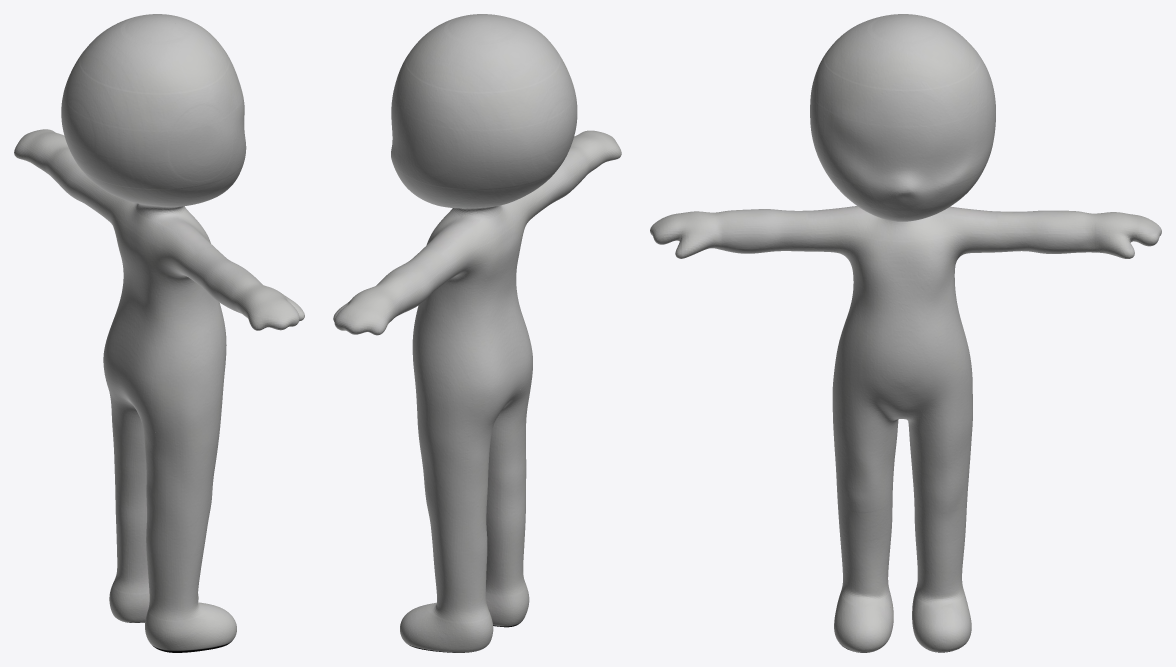
File: tripo_convert_b1c6afa2-38ba-4bbf-b787-9394bf0d1e6c.obj
3 renders of one model, left to right at view 1: azimuth 30°, elevation 25°; view 2: azimuth 150°, elevation 25°; view 3: azimuth 270°, elevation 25°, orthographic.
Parts seen in each view (by area): view 1: tripo_node_b1c6afa2-38ba-4bbf-b787-9394bf0d1e6c; view 2: tripo_node_b1c6afa2-38ba-4bbf-b787-9394bf0d1e6c; view 3: tripo_node_b1c6afa2-38ba-4bbf-b787-9394bf0d1e6c.
Boxes of the visible parts, x1,y1,x2,y2 form: tripo_node_b1c6afa2-38ba-4bbf-b787-9394bf0d1e6c: [14, 14, 304, 652]; tripo_node_b1c6afa2-38ba-4bbf-b787-9394bf0d1e6c: [333, 14, 621, 652]; tripo_node_b1c6afa2-38ba-4bbf-b787-9394bf0d1e6c: [650, 14, 1161, 652].
Bounding box in the file's own units: 0.282 × 1 × 0.7644.
1 material, 1 textured.
